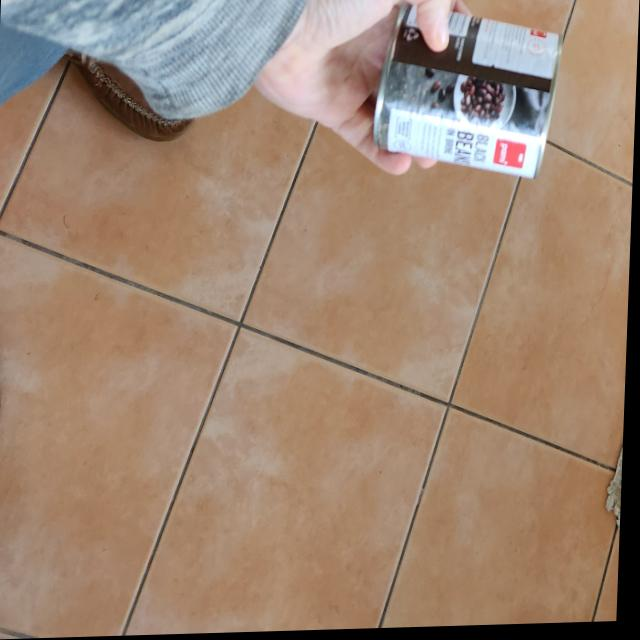black beans: (370, 0, 568, 190)
